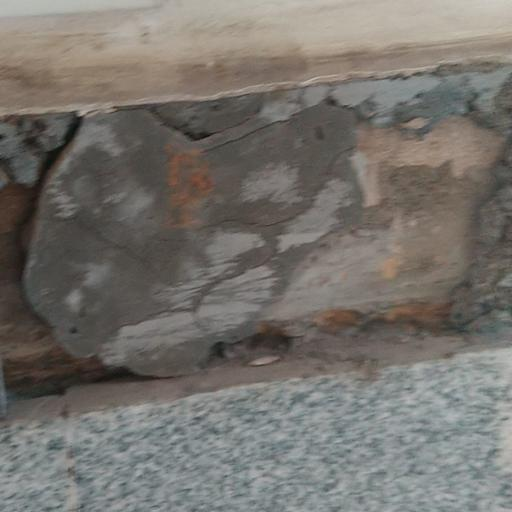spalling: (0, 34, 512, 433)
